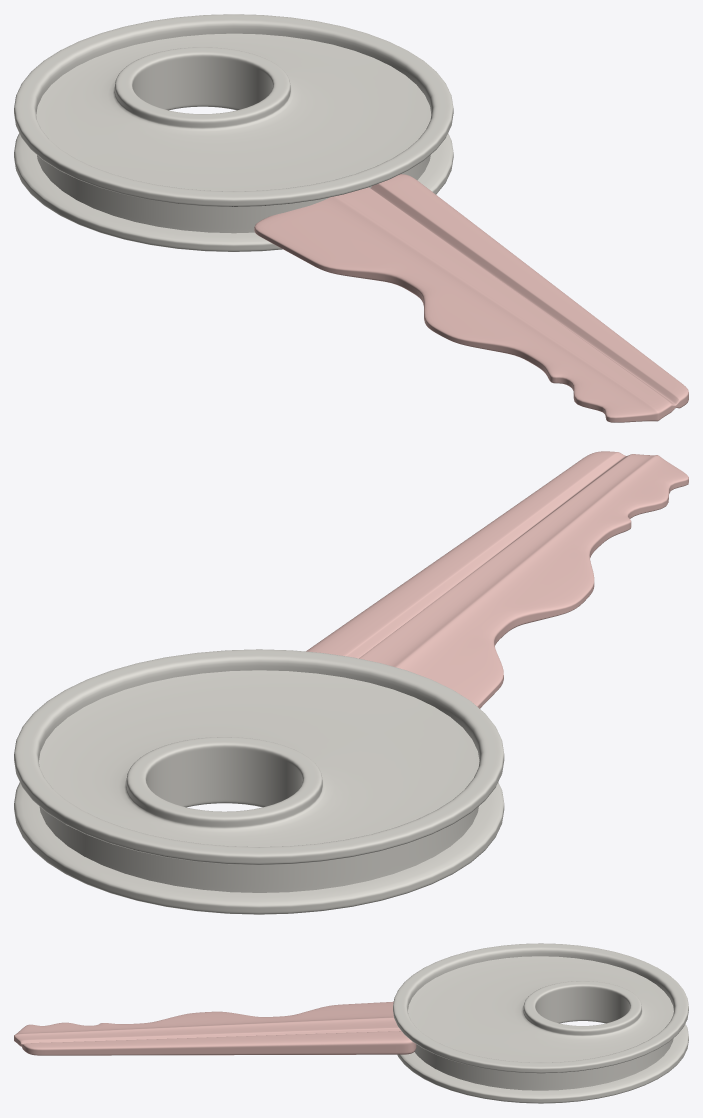
The model's file is white_key.fbx.
3 renders of one model, top to bottom at view 1: azimuth 30°, elevation 25°; view 2: azimuth 150°, elevation 25°; view 3: azimuth 270°, elevation 25°, orthographic. The views are drawn at different scales.
Visible parts, largest first — view 1: Circle; view 2: Circle; view 3: Circle.
Boxes of the visible parts, bbox=[...] form: Circle: bbox=[14, 14, 688, 422]; Circle: bbox=[14, 451, 688, 914]; Circle: bbox=[14, 943, 688, 1103].
Bounding box in the file's own units: 436 × 191 × 25.96.
